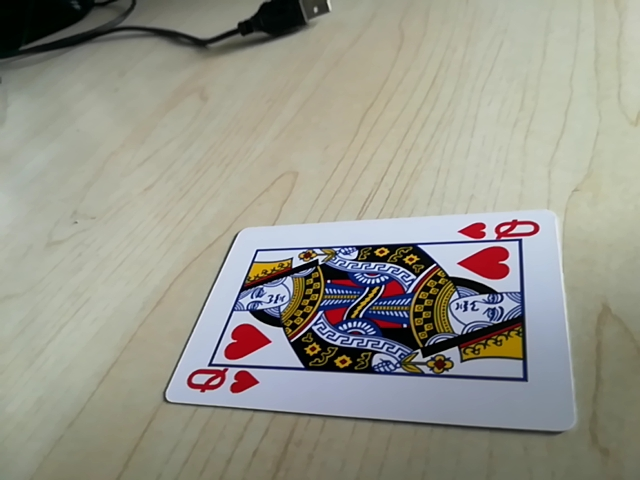hx q: (180, 365, 262, 400), (456, 216, 547, 245)
